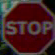Stop: (4, 10, 51, 43)
